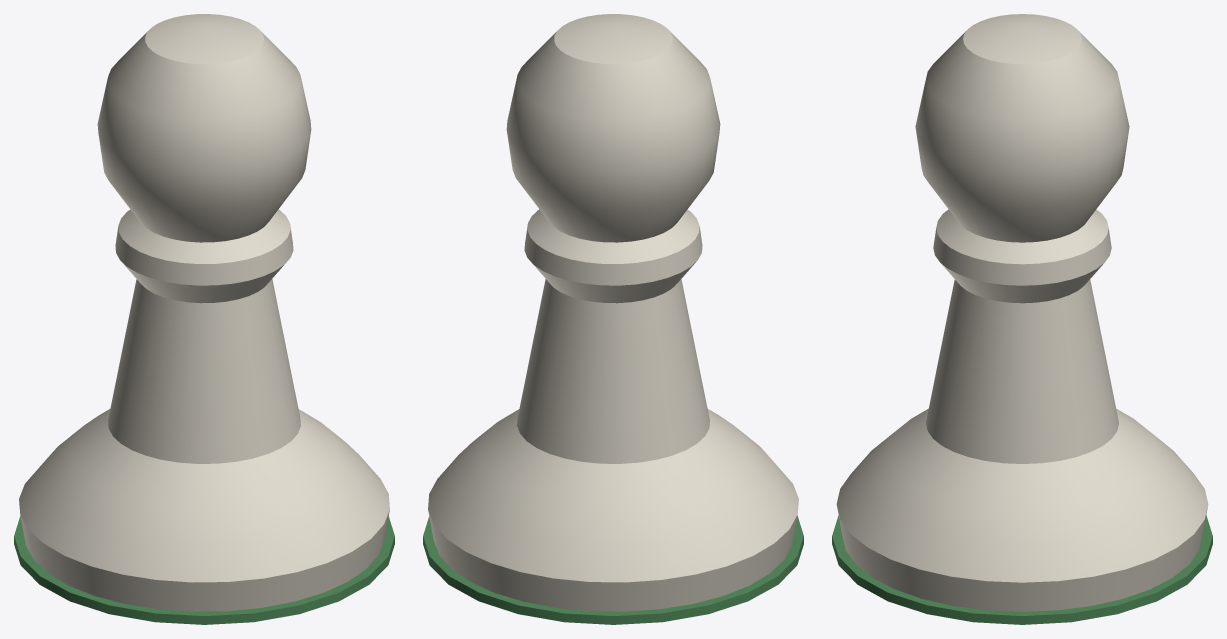
The model's file is chess_pawn_w.glb.
The picture shows the model from 3 angles, left to right: view 1: azimuth 30°, elevation 25°; view 2: azimuth 150°, elevation 25°; view 3: azimuth 270°, elevation 25°; orthographic projection.
Parts seen in each view (by area): view 1: Piece, Felt; view 2: Piece, Felt; view 3: Piece, Felt.
Boxes of the visible parts, x1=… form: Piece: x1=19, y1=14, x2=389, y2=611; Felt: x1=14, y1=516, x2=394, y2=624; Piece: x1=428, y1=14, x2=798, y2=611; Felt: x1=423, y1=516, x2=803, y2=624; Piece: x1=836, y1=14, x2=1208, y2=611; Felt: x1=832, y1=515, x2=1212, y2=624.
Size of the model in its own units: 0.0313 by 0.0471 by 0.0313.
